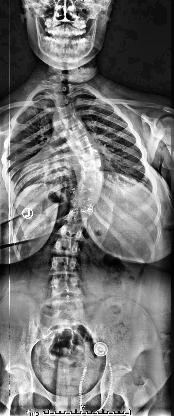Vertebrae: (50, 274, 81, 296), (48, 254, 80, 275), (50, 238, 81, 256), (56, 223, 86, 241), (70, 200, 96, 218), (72, 134, 96, 152), (80, 158, 105, 174), (76, 186, 101, 202), (76, 146, 100, 162), (64, 210, 88, 226), (56, 103, 78, 120), (69, 123, 89, 141), (60, 114, 82, 130), (80, 170, 102, 186), (54, 92, 74, 108), (54, 82, 72, 94)
